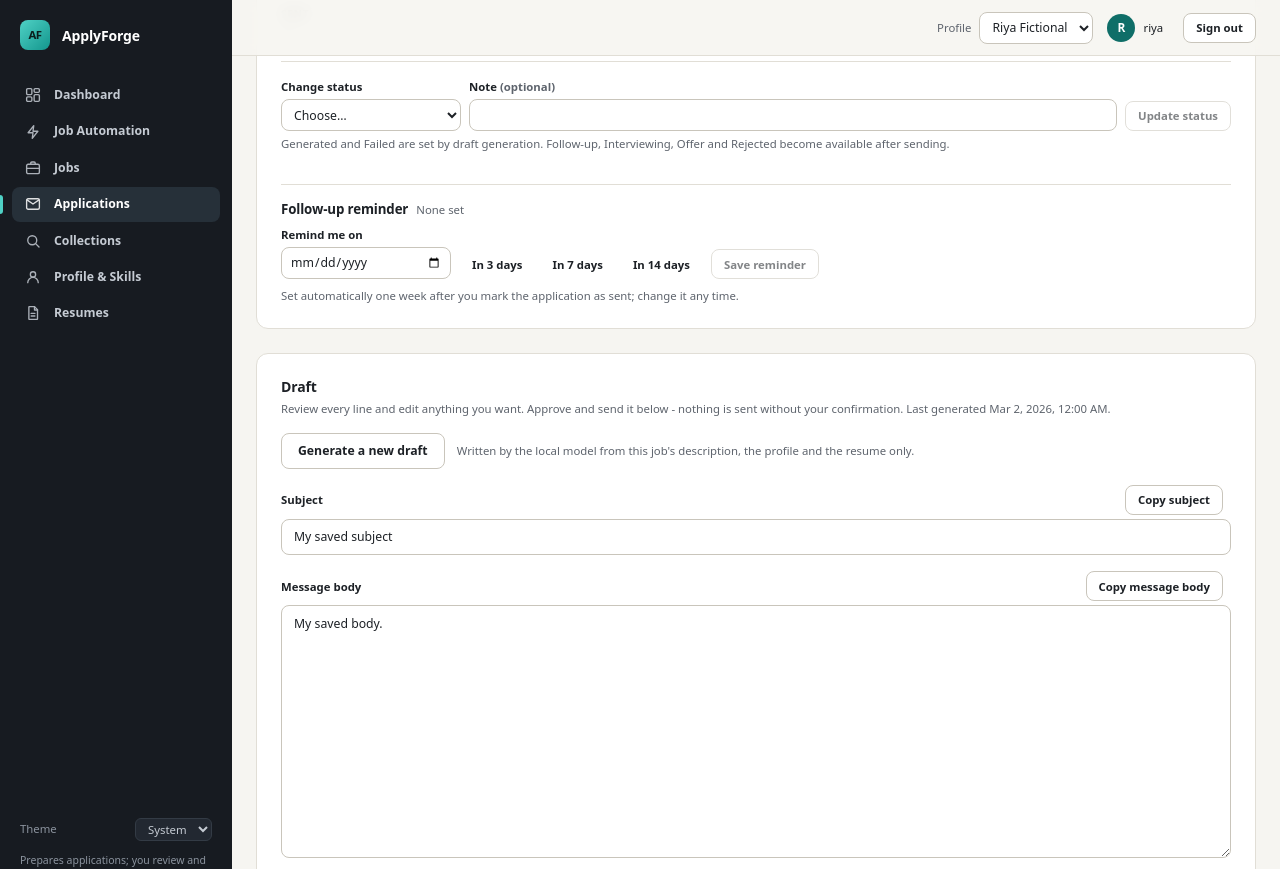
it: 5. internal details stay out of the main text › a 503 shows the explanation; the Ollama URL and OS error only in cleaned technical details
(page scrolled)
Click the button "Generate a new draft" at point(363, 451), box [281, 433, 445, 469]
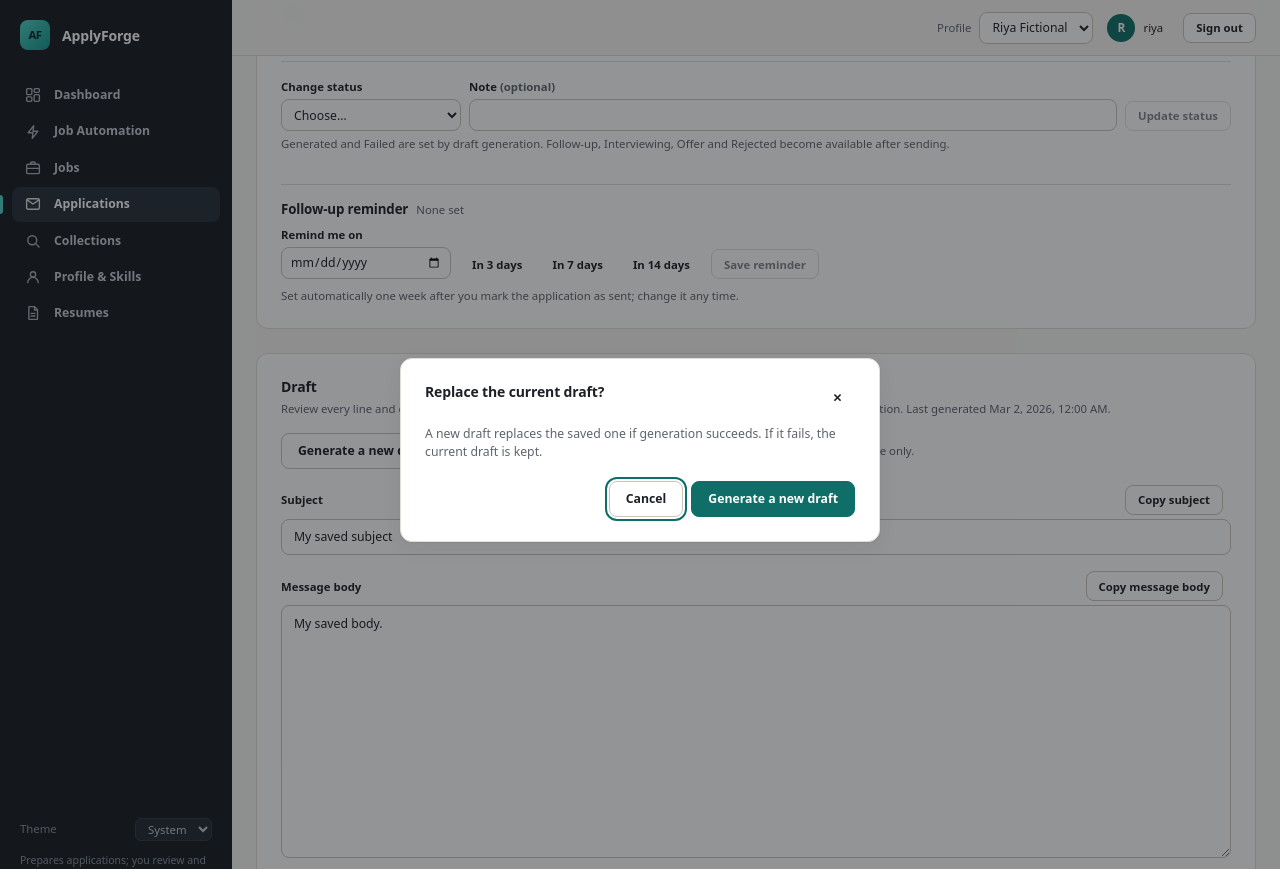
Click the button "Generate a new draft" at point(773, 499), box [691, 481, 855, 517]
(page scrolled)
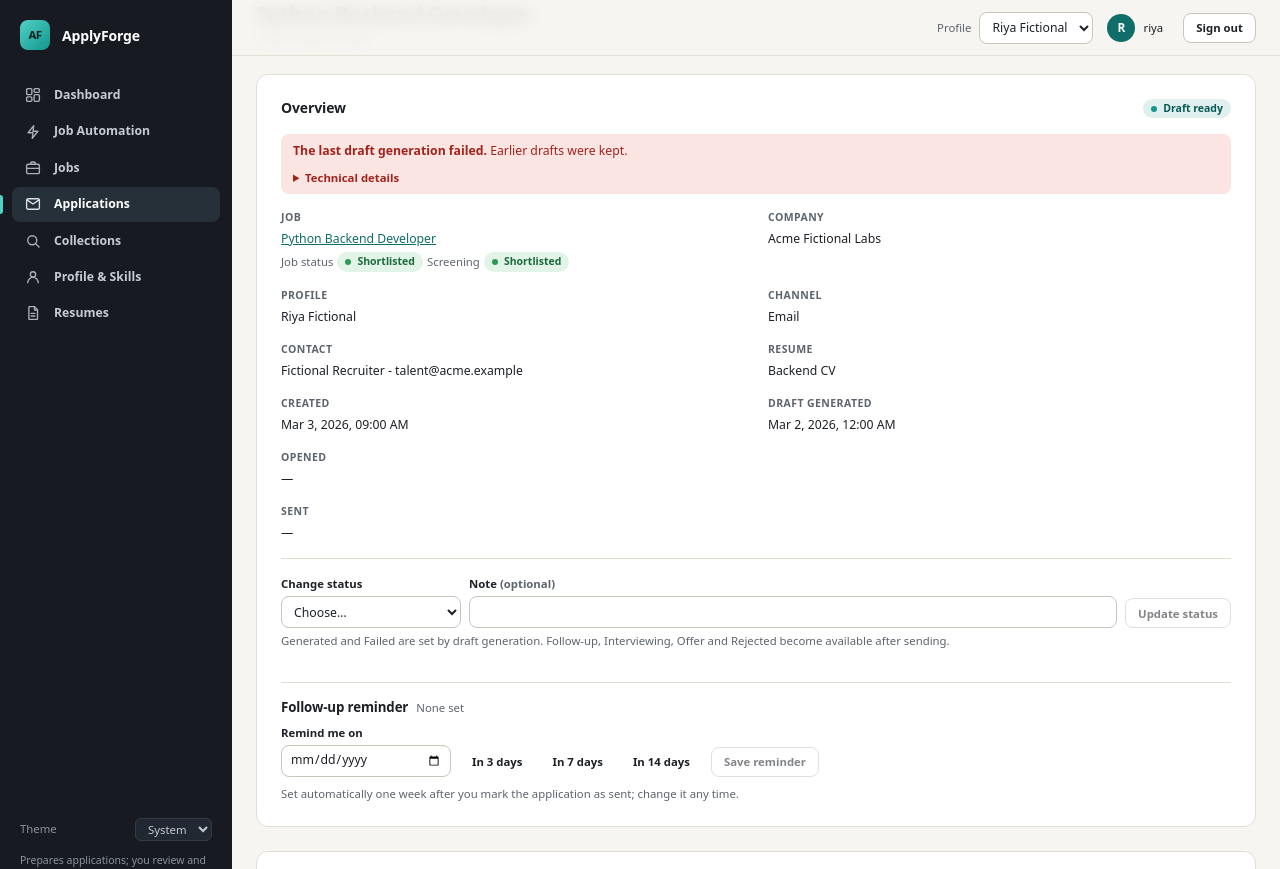
Check: the element "Overview" shows "The last draft generation failed.", box [293, 142, 487, 159]
